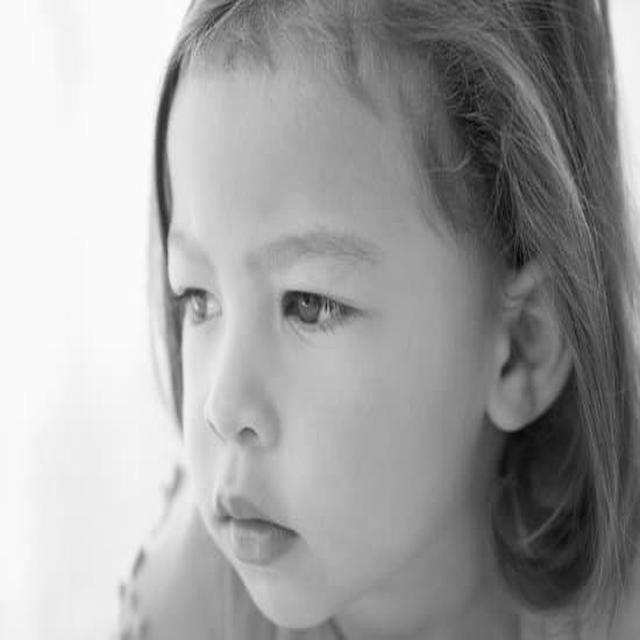Sadness: (169, 67, 416, 629)
